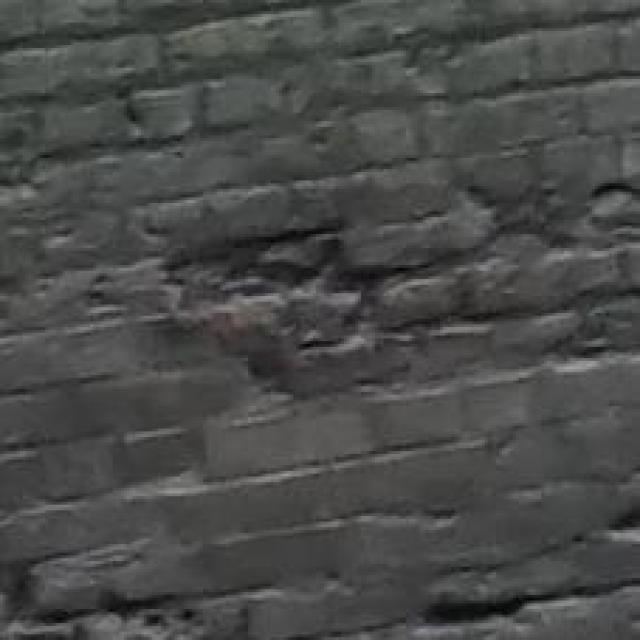Crack: (152, 214, 466, 448)
